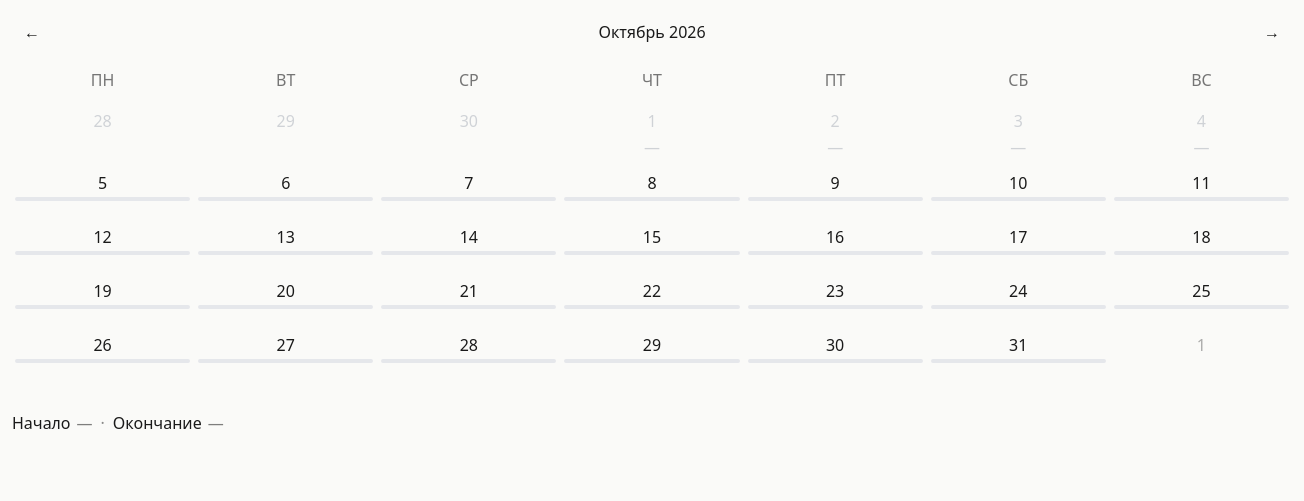
DailyRangeCalendar occupancy / limits UI › shows minNights error message and does not complete range
Click the button named "Следующий месяц". click: (1272, 32)
box: [1252,12,1292,52]
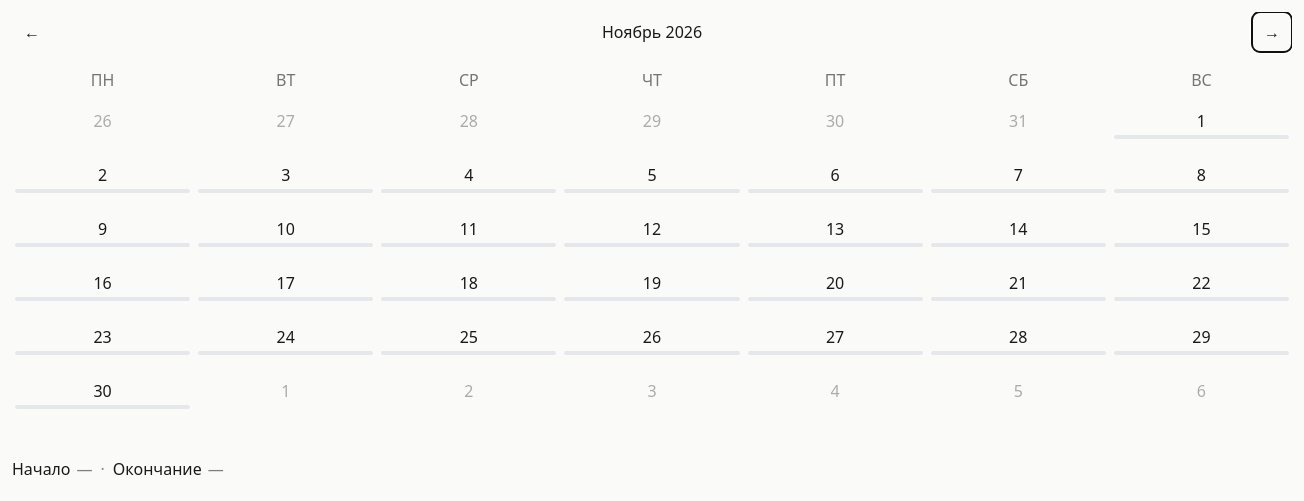
Click the button "10". click: (286, 238)
box: [195,212,376,264]
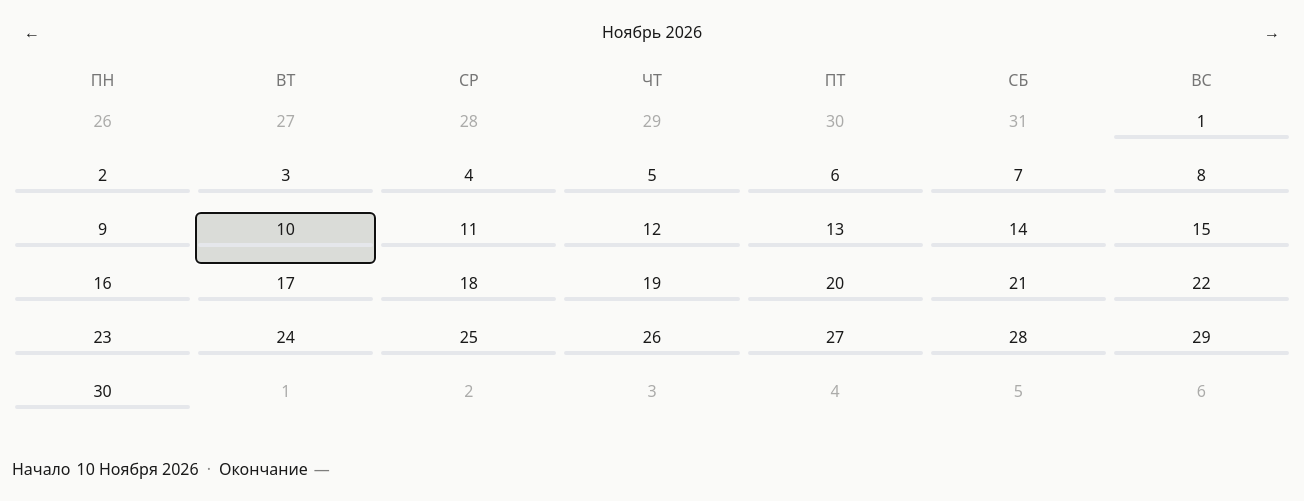
Click the button "11". click: (469, 238)
box: [378,212,559,264]
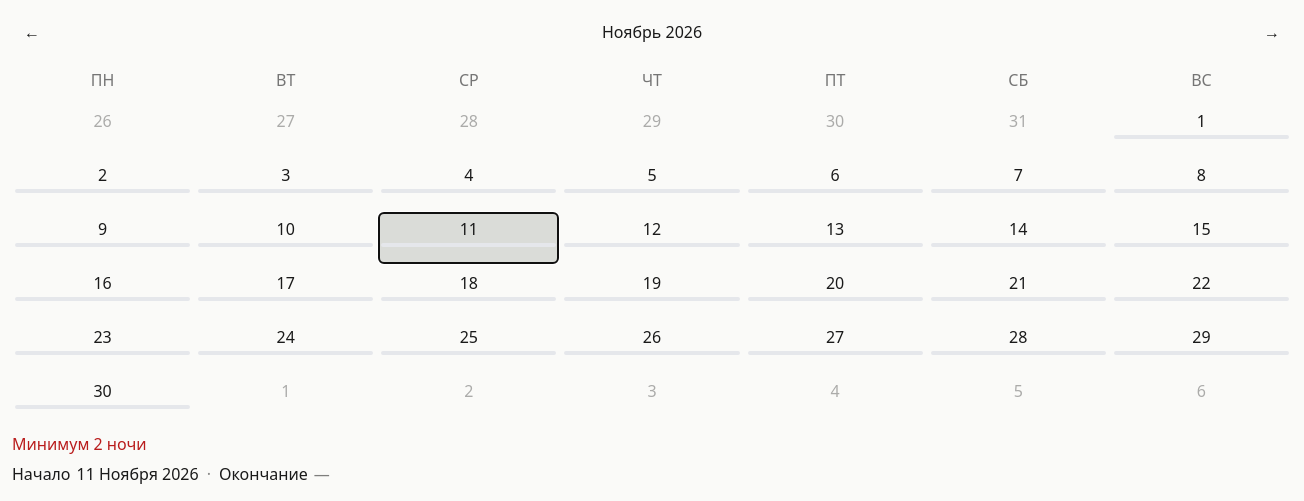
Result: the text "Минимум 2 ночи" is shown at [12,433,147,455]
